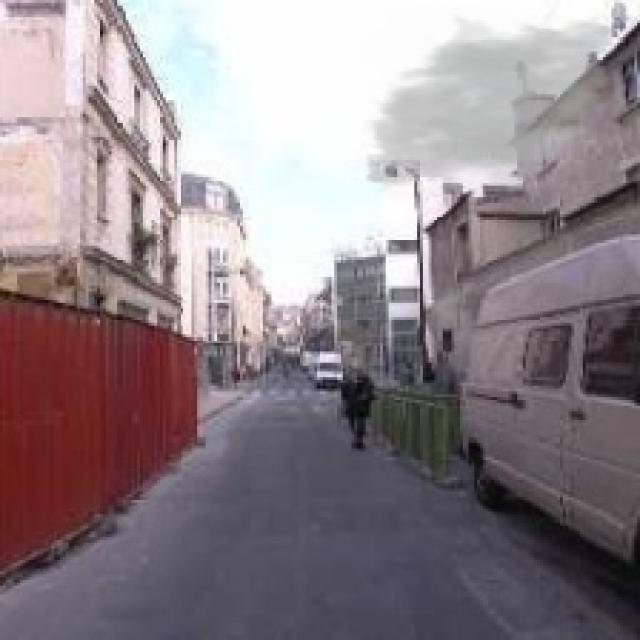Smoke: (354, 6, 626, 206)
